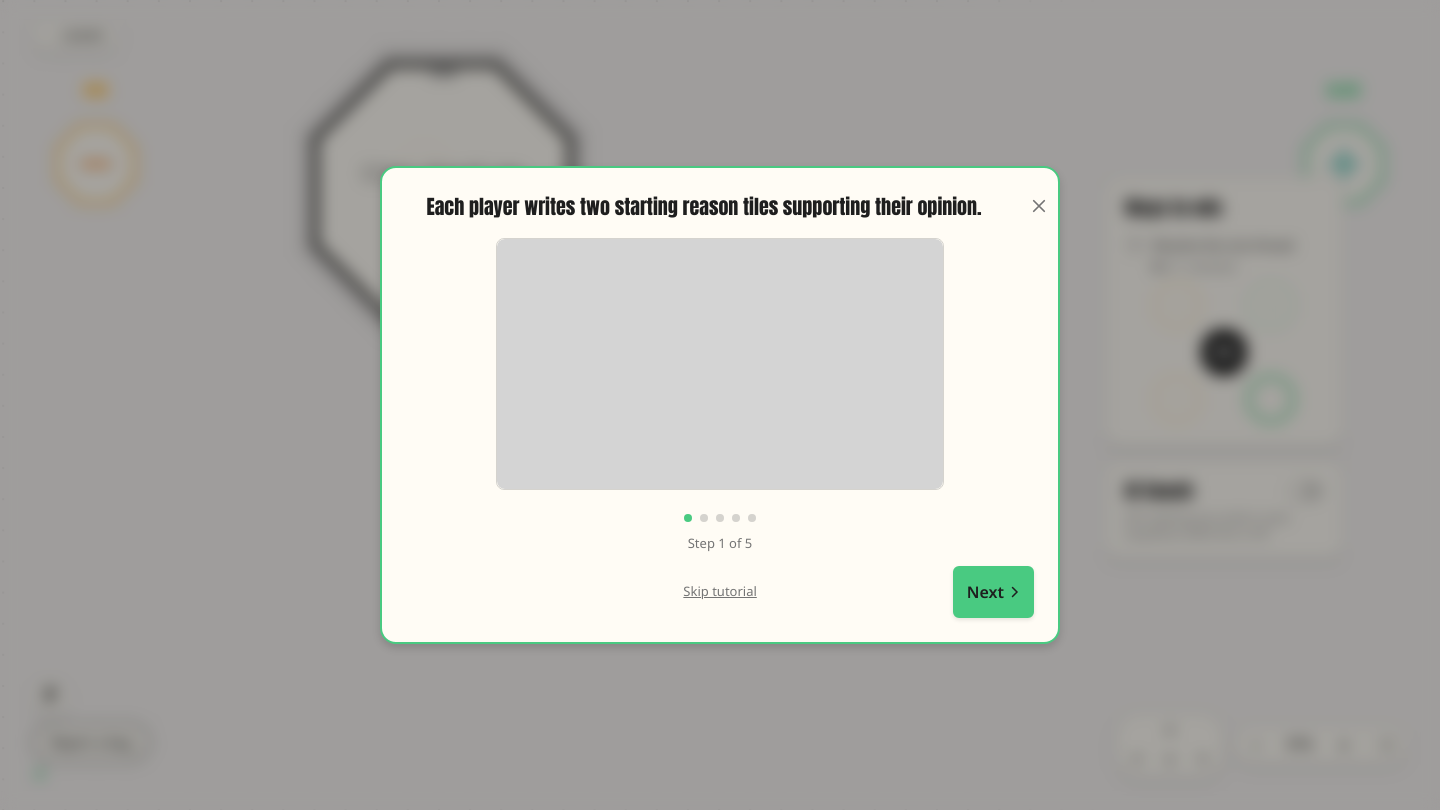
it: LiveBoard: taking your own reason back off the board › arms on the first press instead of removing
What coordinates should you click on to do the following:
click the button "Skip tutorial"
I would click on:
 (720, 592)
Its box is top-left (683, 582), bottom-right (757, 602).
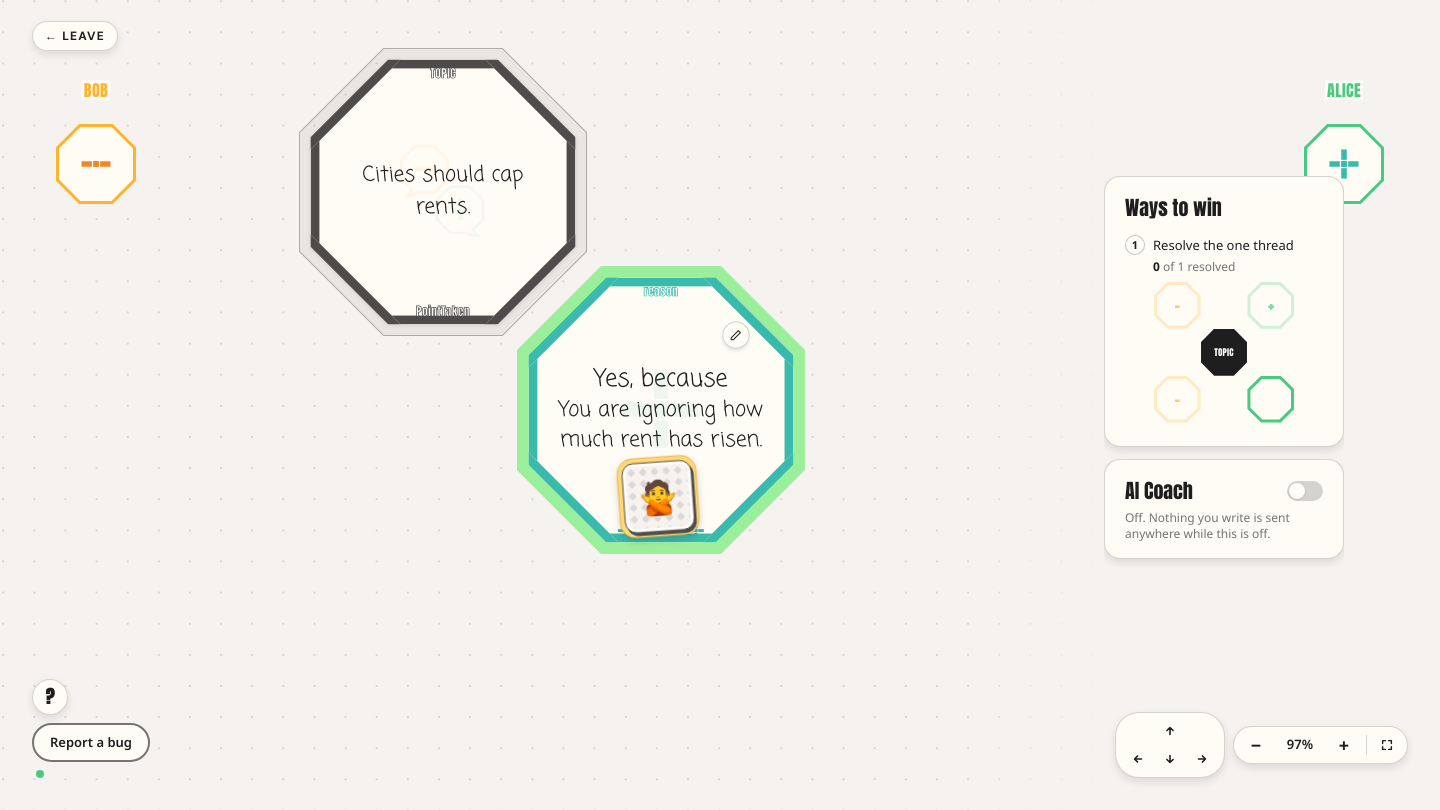
What coordinates should you click on to do the following:
click the element that starts with "reason"
I would click on:
 (661, 410)
Its box is top-left (517, 266), bottom-right (805, 554).
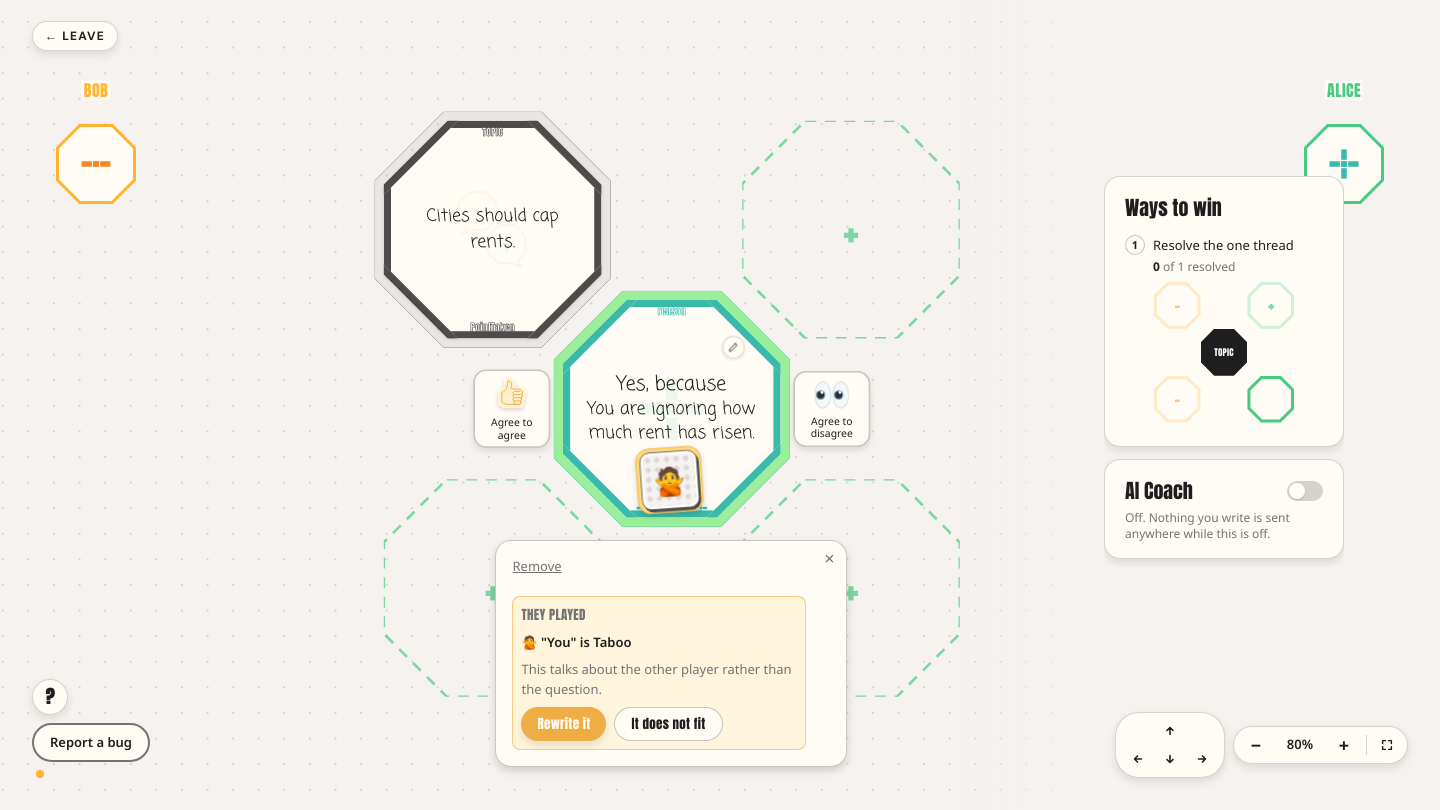
What coordinates should you click on to do the following:
click the button "Remove"
I would click on:
 (537, 566)
Its box is top-left (512, 556), bottom-right (562, 576).
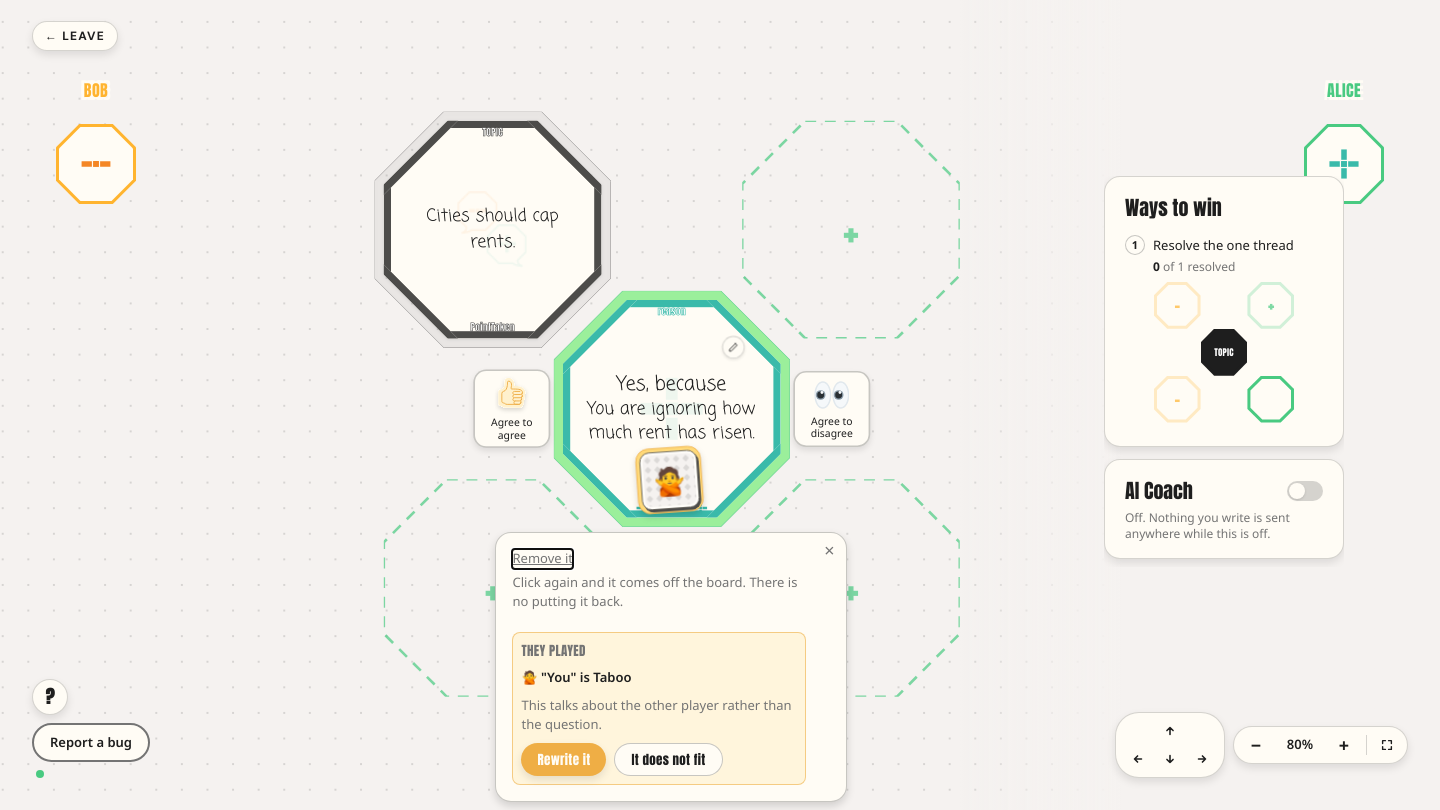
Expected: the text "There is no putting it back" is shown, top-left (512, 572), bottom-right (797, 610)
